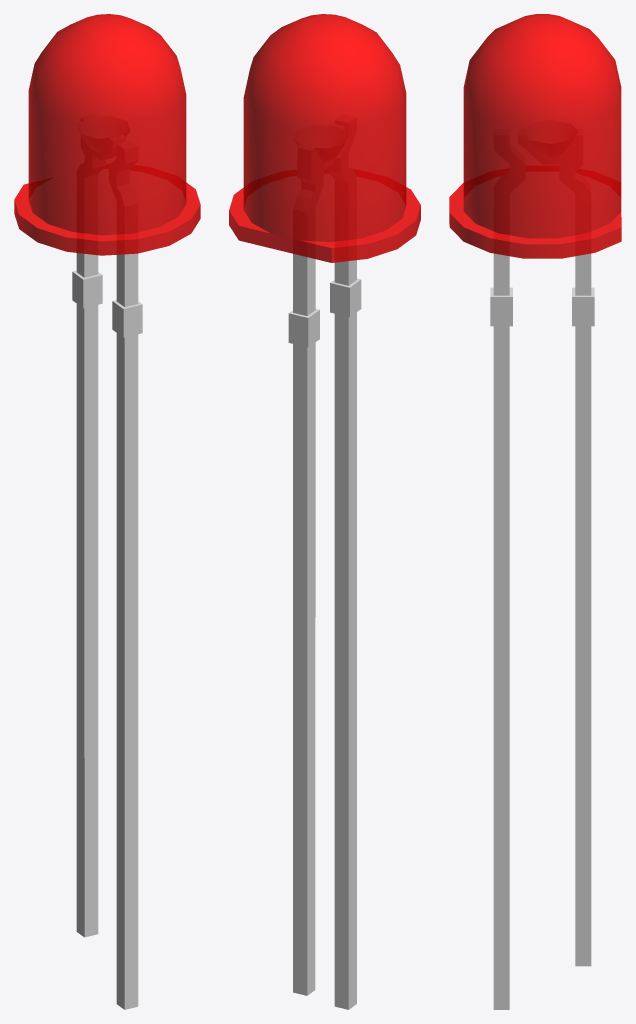
File: led.glb
3 views of the same model, side by side, from view 1: azimuth 30°, elevation 25°; view 2: azimuth 150°, elevation 25°; view 3: azimuth 270°, elevation 25° (orthographic). The views are drawn at different scales.
Parts seen in each view (by area): view 1: Diode-Light-Emitting, Legs; view 2: Diode-Light-Emitting, Legs; view 3: Diode-Light-Emitting, Legs.
Part boxes in pixels (x1,y1,x2,y2): Diode-Light-Emitting: (14,14,200,255); Legs: (72,253,142,1009); Diode-Light-Emitting: (229,14,420,262); Legs: (288,253,361,1009); Diode-Light-Emitting: (449,14,621,258); Legs: (490,253,594,1009).
Size of the model in its own units: 0.00579 by 0.0338 by 0.00535.
